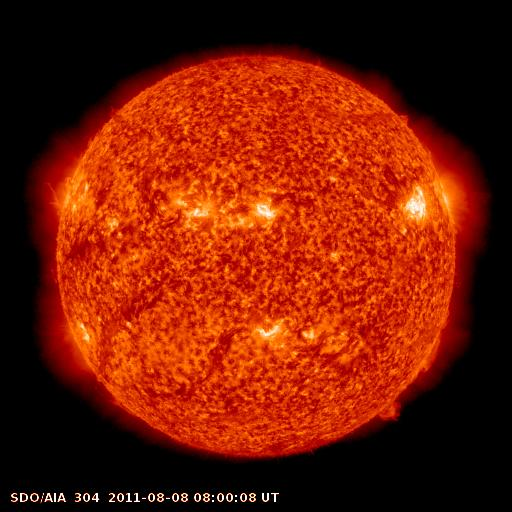prominence: (370, 387, 409, 431), (413, 331, 449, 377)
